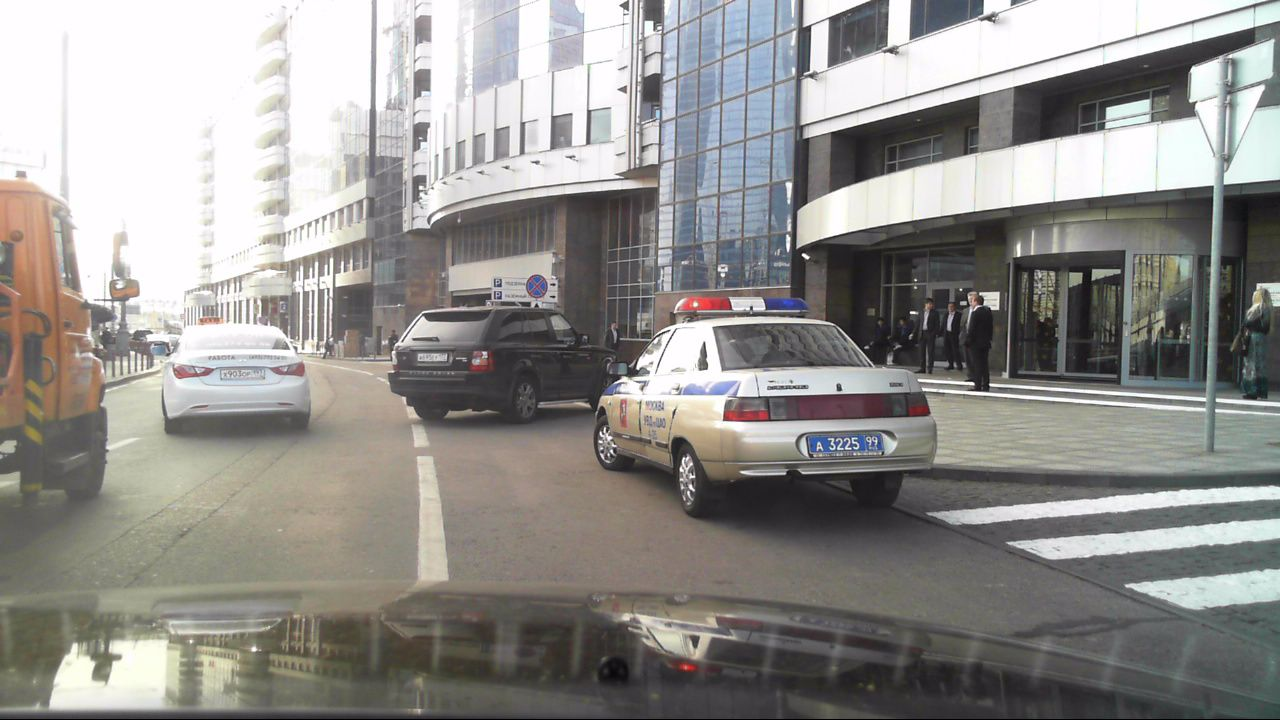No Parking: (525, 273, 550, 300)
